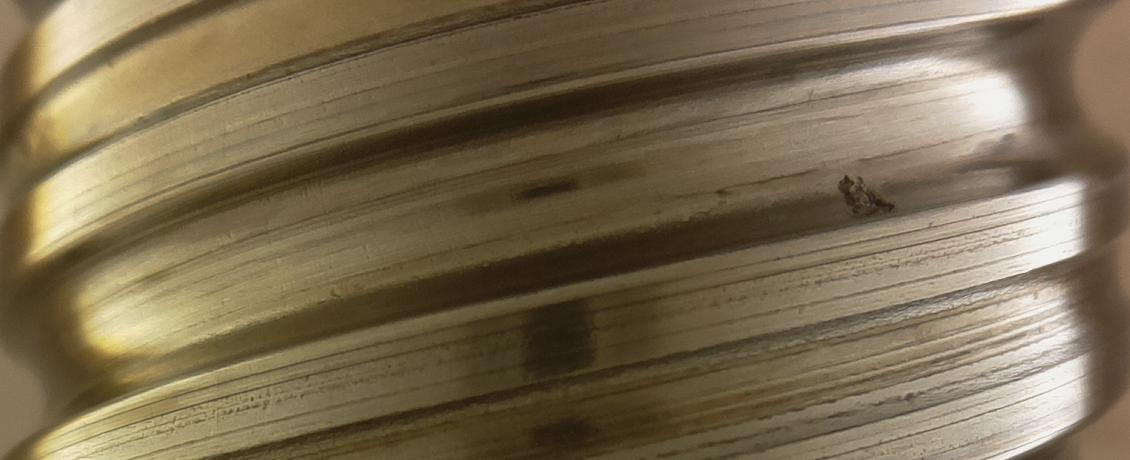pitting: (837, 174, 896, 217)
